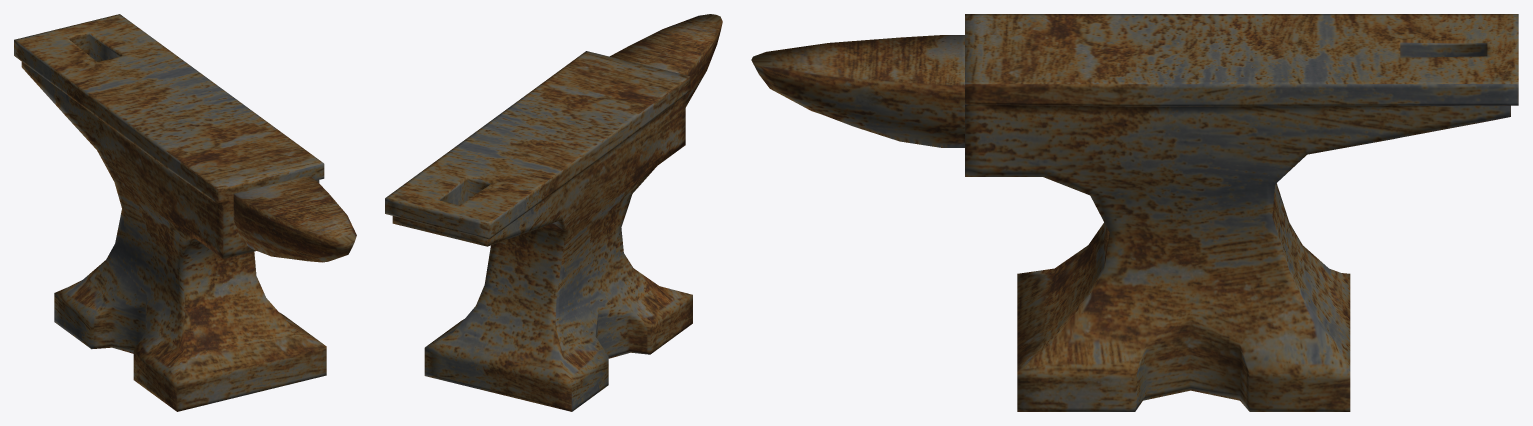
The model's file is ors.fbx.
The picture shows the model from 3 angles, left to right: view 1: azimuth 30°, elevation 25°; view 2: azimuth 150°, elevation 25°; view 3: azimuth 270°, elevation 25°; orthographic projection. The views are drawn at different scales.
Visible parts, largest first — view 1: body, nose; view 2: body, nose; view 3: body, nose.
Part boxes in pixels (x1,y1,x2,y2): body: (14,14,326,411); nose: (233,175,356,262); body: (385,51,692,411); nose: (610,14,722,107); body: (965,14,1518,411); nose: (751,35,964,147).
Bounding box in the file's own units: 24.76 × 36.6 × 81.2.
